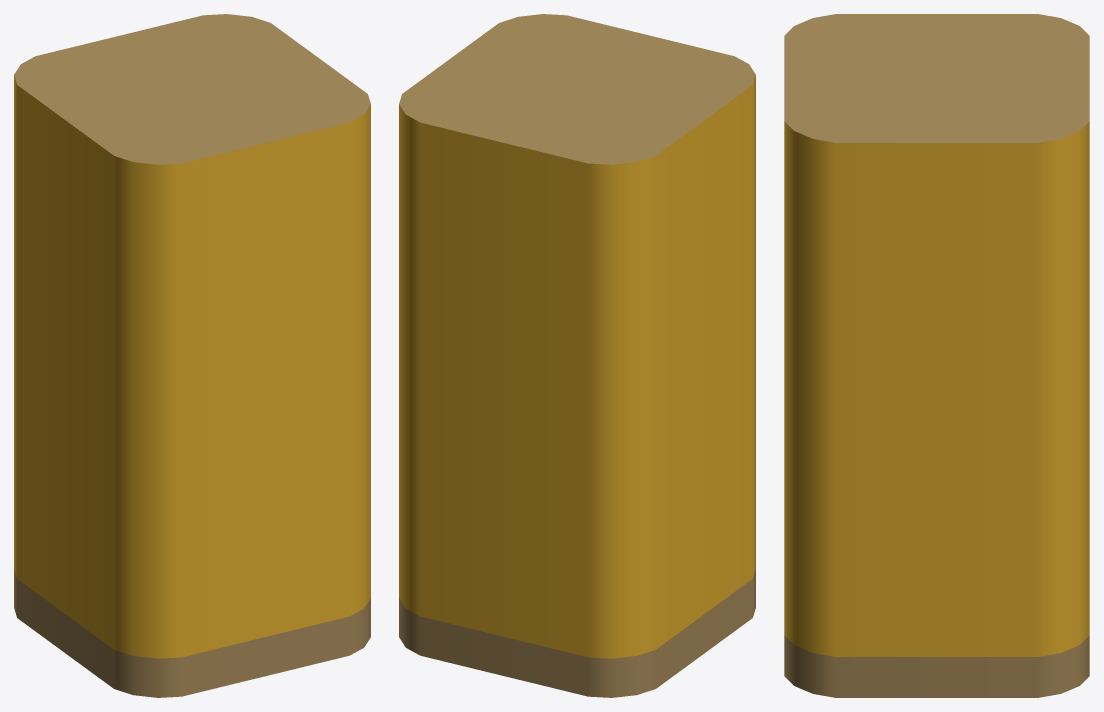
Rendered from PillarGeo.fbx.
3 renders of one model, left to right at view 1: azimuth 30°, elevation 25°; view 2: azimuth 150°, elevation 25°; view 3: azimuth 270°, elevation 25°, orthographic. The views are drawn at different scales.
Parts seen in each view (by area): view 1: PillarGeo; view 2: PillarGeo; view 3: PillarGeo.
Part boxes in pixels (left/top/right/bottom): PillarGeo: left=14, top=14, right=370, bottom=697; PillarGeo: left=399, top=14, right=755, bottom=697; PillarGeo: left=784, top=14, right=1089, bottom=697.
Bounding box in the file's own units: 249 × 500 × 249.
